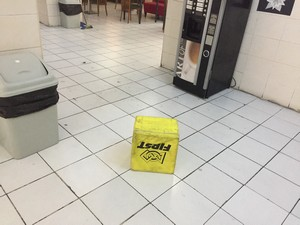cube: (130, 115, 178, 175)
